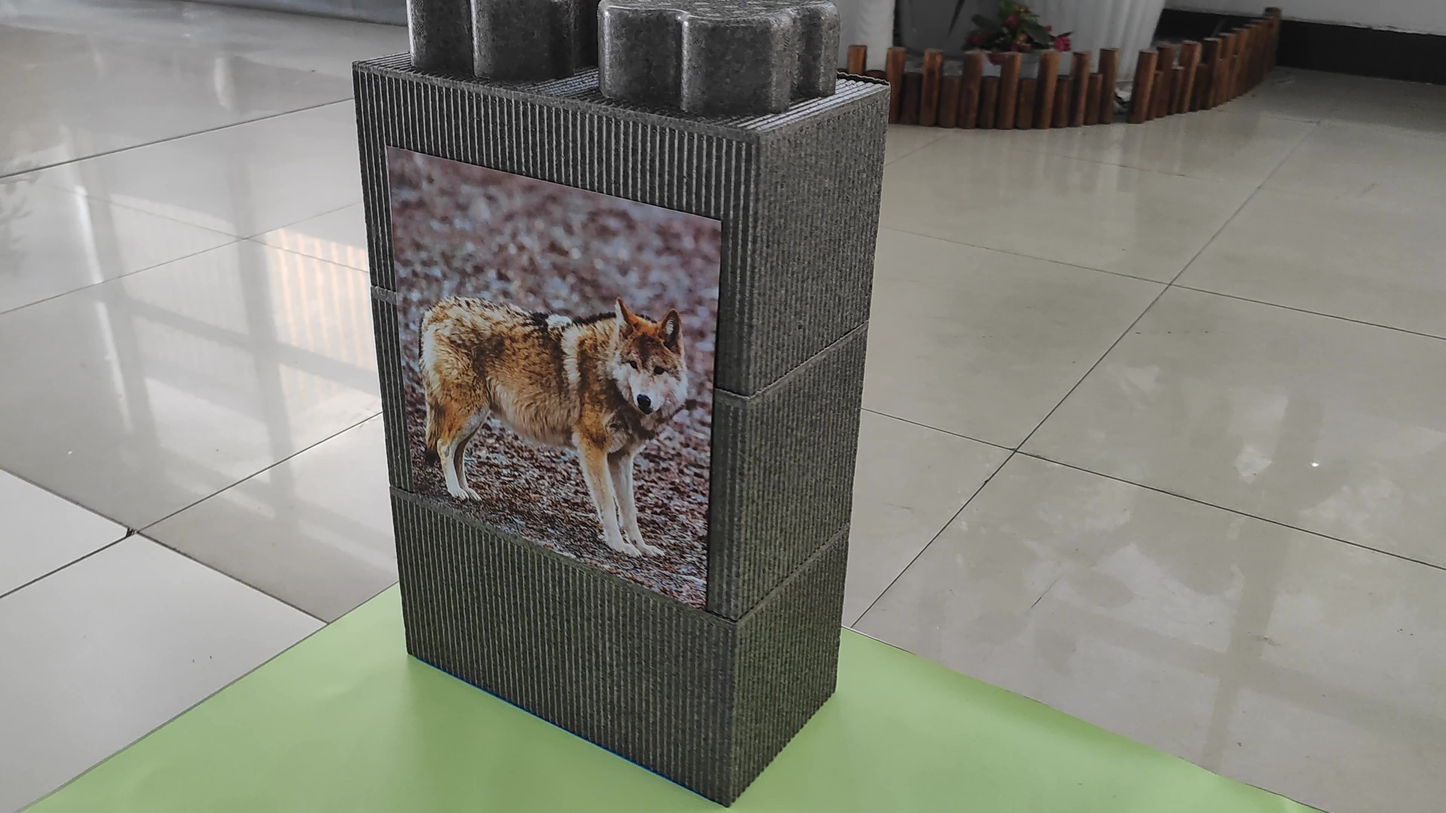wolf: (390, 189, 698, 560)
